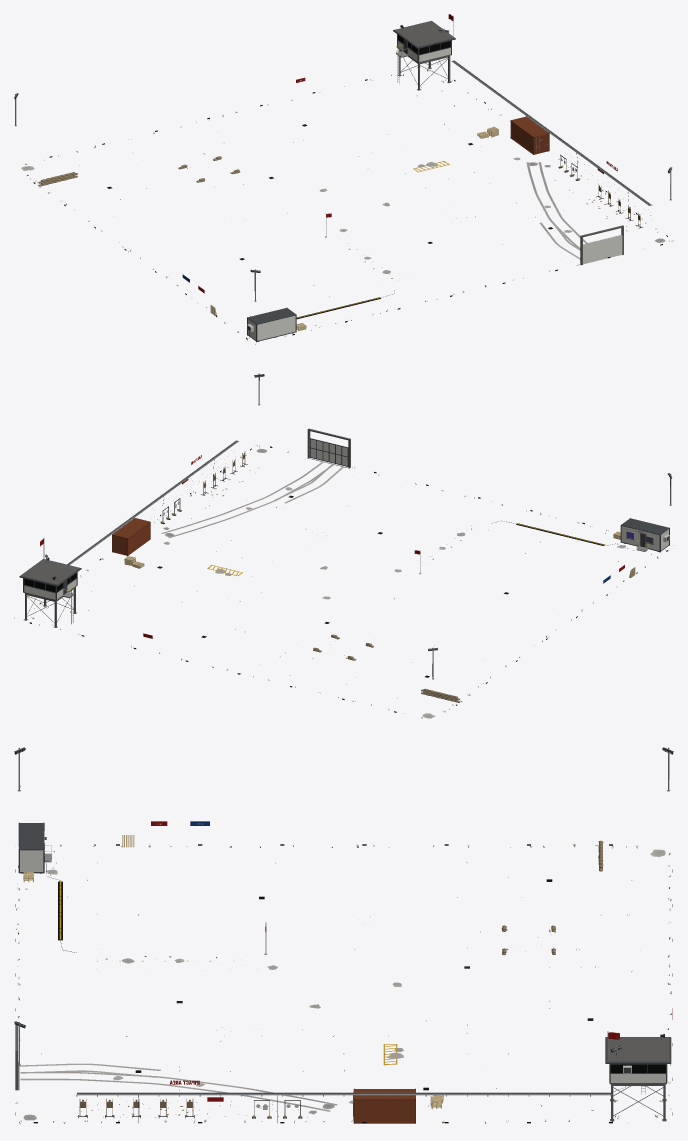
Rendered from map_testing_dressing.gltf.
3 renders of one model, top to bottom at view 1: azimuth 30°, elevation 25°; view 2: azimuth 150°, elevation 25°; view 3: azimuth 270°, elevation 25°, orthographic. The views are drawn at different scales.
Parts seen in each view (by area): view 1: map_testing_dressing_n, map_testing_dressing_s, map_testing_dressing_ground; view 2: map_testing_dressing_n, map_testing_dressing_s, map_testing_dressing_ground; view 3: map_testing_dressing_n, map_testing_dressing_s, map_testing_dressing_ground, map_testing_dressing_se_detail.
Boxes of the visible parts, bbox=[...] form: map_testing_dressing_n: bbox=[14, 14, 549, 250]; map_testing_dressing_s: bbox=[155, 60, 672, 342]; map_testing_dressing_ground: bbox=[21, 67, 665, 331]; map_testing_dressing_n: bbox=[19, 518, 547, 712]; map_testing_dressing_s: bbox=[67, 373, 672, 617]; map_testing_dressing_ground: bbox=[24, 448, 625, 718]; map_testing_dressing_n: bbox=[353, 747, 673, 1123]; map_testing_dressing_s: bbox=[14, 747, 610, 1123]; map_testing_dressing_ground: bbox=[18, 849, 666, 1121]; map_testing_dressing_se_detail: bbox=[15, 983, 610, 1123].
Size of the model in its own units: 64.95 by 10.73 by 64.25.
